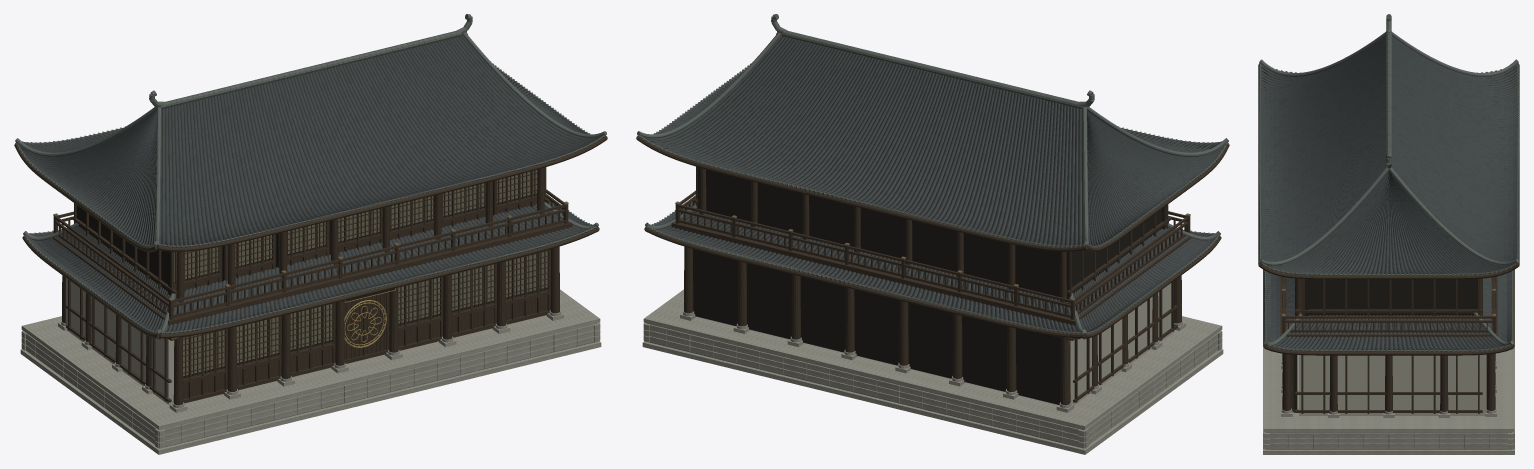
File: architecture.glb
The picture shows the model from 3 angles, left to right: view 1: azimuth 30°, elevation 25°; view 2: azimuth 150°, elevation 25°; view 3: azimuth 270°, elevation 25°; orthographic projection. The views are drawn at different scales.
Parts seen in each view (by area): view 1: MainHall_Dark_Grey_Fired_Tiles, MainHall_Aged_Cedar, MainHall_Weathered_Limestone, MainHall_Deep_Wood_Recess, MainHall_Window_Closed_Backpanel, MainHall_Tile_Worn_Edges, MainHall_Warm_Old_Limewash, MainHall_Muted_Antique_Brass; view 2: MainHall_Dark_Grey_Fired_Tiles, MainHall_Deep_Wood_Recess, MainHall_Aged_Cedar, MainHall_Weathered_Limestone, MainHall_Tile_Worn_Edges, MainHall_Warm_Old_Limewash; view 3: MainHall_Dark_Grey_Fired_Tiles, MainHall_Aged_Cedar, MainHall_Weathered_Limestone, MainHall_Deep_Wood_Recess, MainHall_Warm_Old_Limewash, MainHall_Tile_Worn_Edges, MainHall_Stone_Recess.
Part boxes in pixels (x1=…): MainHall_Dark_Grey_Fired_Tiles: x1=19, y1=35, x2=601, y2=332; MainHall_Aged_Cedar: x1=14, y1=136, x2=607, y2=405; MainHall_Weathered_Limestone: x1=20, y1=289, x2=601, y2=454; MainHall_Deep_Wood_Recess: x1=21, y1=37, x2=585, y2=378; MainHall_Window_Closed_Backpanel: x1=174, y1=170, x2=547, y2=376; MainHall_Tile_Worn_Edges: x1=15, y1=14, x2=606, y2=334; MainHall_Warm_Old_Limewash: x1=66, y1=278, x2=174, y2=404; MainHall_Muted_Antique_Brass: x1=344, y1=288, x2=395, y2=347; MainHall_Dark_Grey_Fired_Tiles: x1=642, y1=35, x2=1225, y2=332; MainHall_Deep_Wood_Recess: x1=645, y1=37, x2=1216, y2=404; MainHall_Aged_Cedar: x1=636, y1=136, x2=1229, y2=405; MainHall_Weathered_Limestone: x1=642, y1=289, x2=1223, y2=454; MainHall_Tile_Worn_Edges: x1=637, y1=14, x2=1228, y2=334; MainHall_Warm_Old_Limewash: x1=697, y1=283, x2=1173, y2=405; MainHall_Dark_Grey_Fired_Tiles: x1=1260, y1=36, x2=1517, y2=349; MainHall_Aged_Cedar: x1=1258, y1=64, x2=1519, y2=413; MainHall_Weathered_Limestone: x1=1263, y1=270, x2=1514, y2=454; MainHall_Deep_Wood_Recess: x1=1261, y1=67, x2=1516, y2=412; MainHall_Warm_Old_Limewash: x1=1299, y1=354, x2=1486, y2=415; MainHall_Tile_Worn_Edges: x1=1258, y1=14, x2=1519, y2=352; MainHall_Stone_Recess: x1=1266, y1=435, x2=1511, y2=449.
Size of the model in its own units: 30.28 by 19.05 by 16.58.
Materials: 10 (3 with a texture image).
